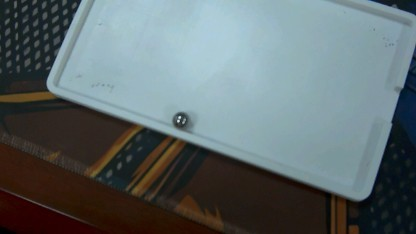ironball: (165, 110, 189, 129)
